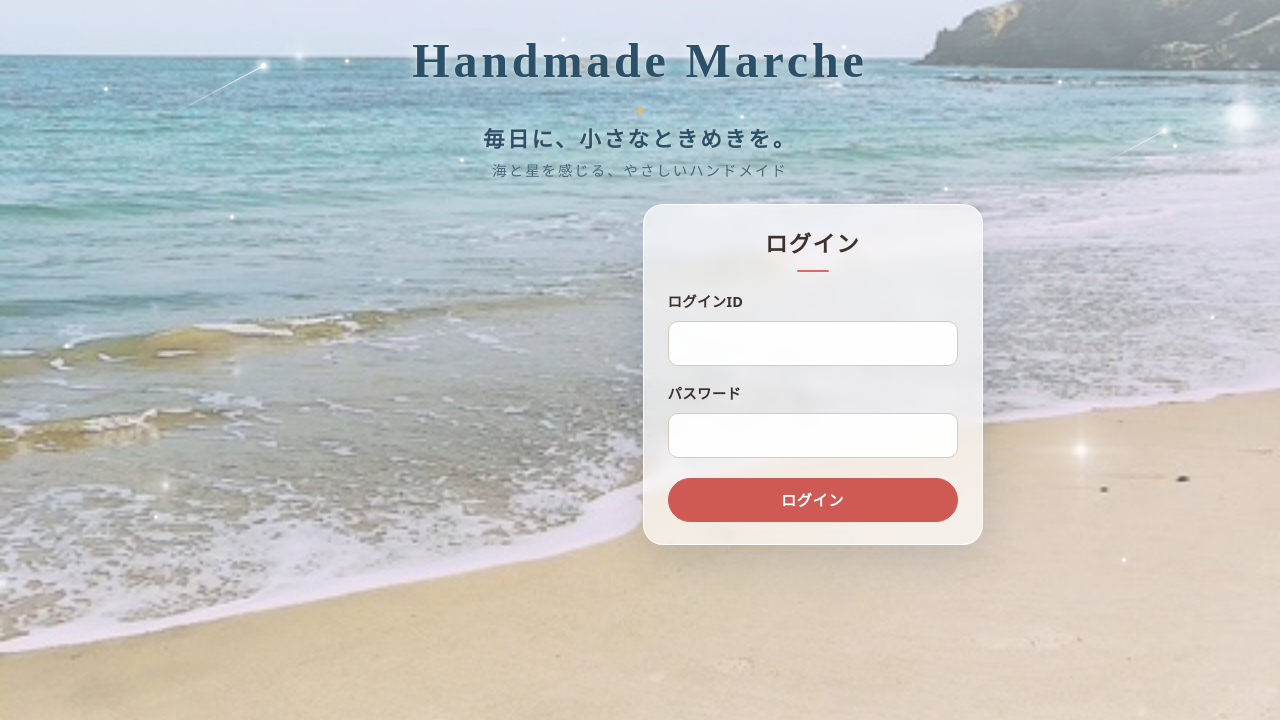
Test: ログイン画面 › ログイン前に開こうとしていた画面に、ログイン後に移動する
Expected: the heading "ログイン" is shown, [765, 232, 860, 257]
Type "user1" into the field labelled "ログインID".
click(813, 344); type("user1")  # box [668, 321, 958, 366]
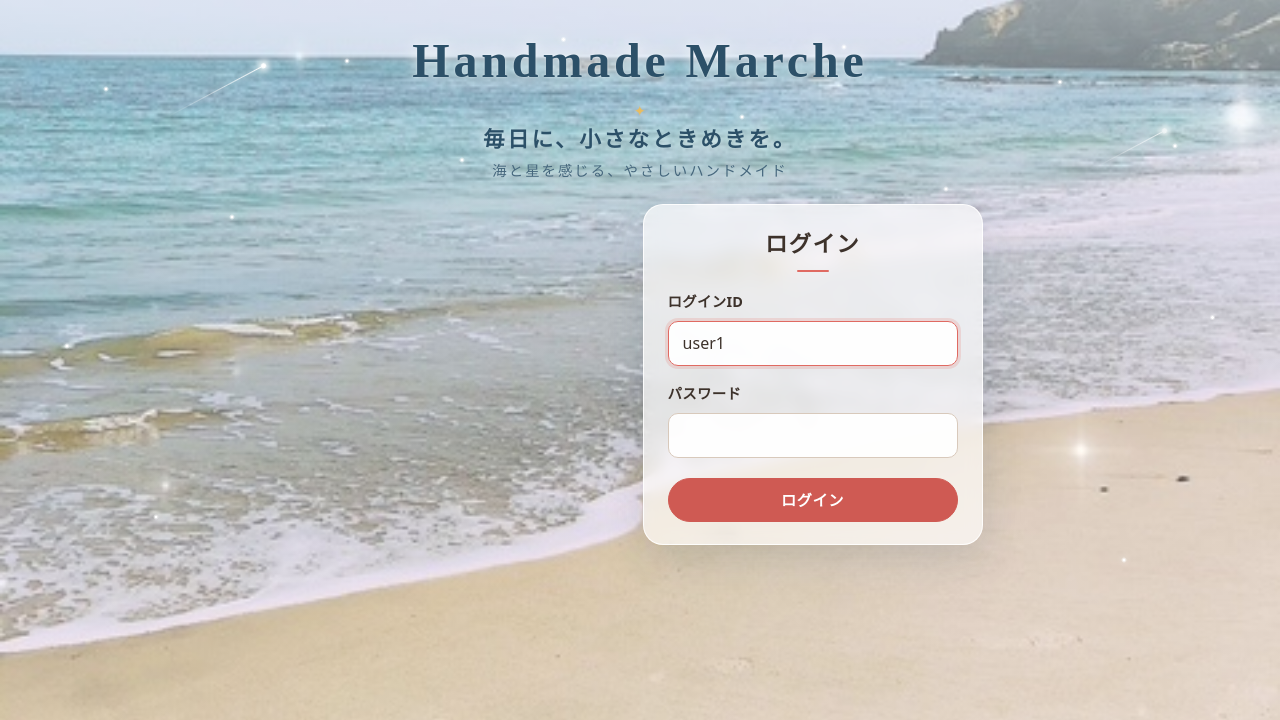
Type "password123" into the password field labelled "パスワード".
click(813, 436); type("password123")  # box [668, 413, 958, 458]
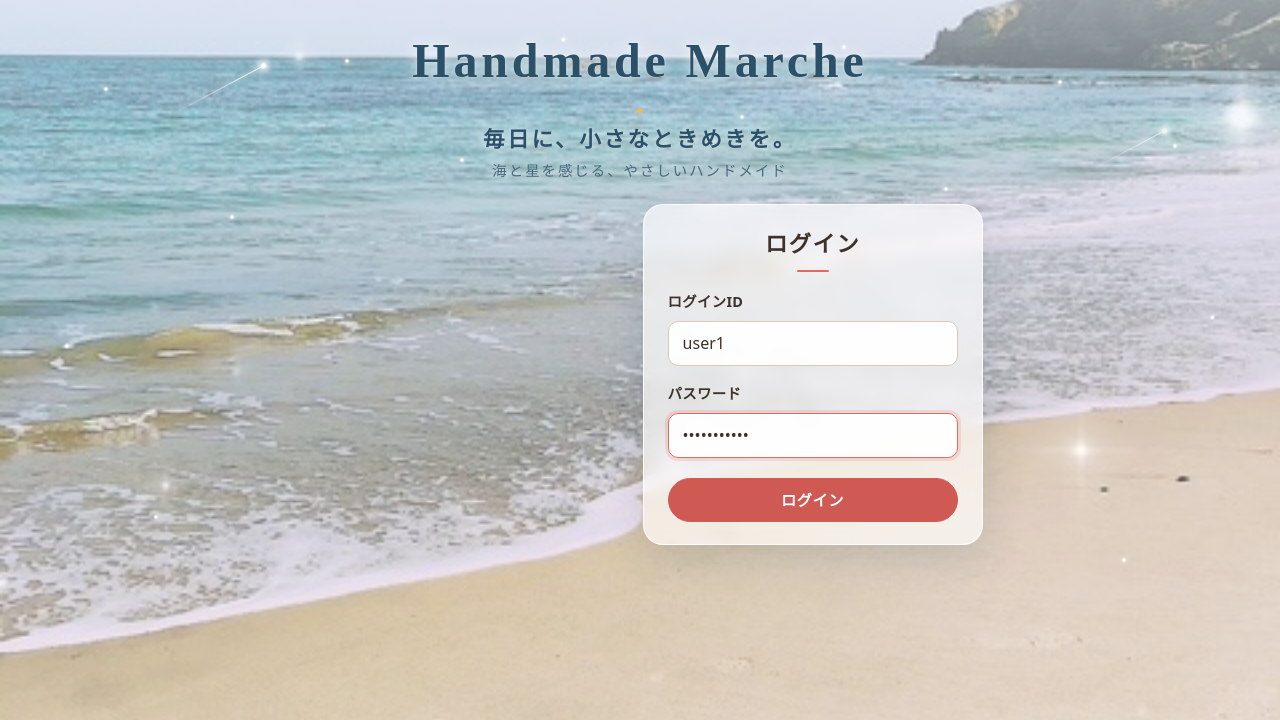
Click the button "ログイン".
click(813, 500)  # box [668, 478, 958, 522]
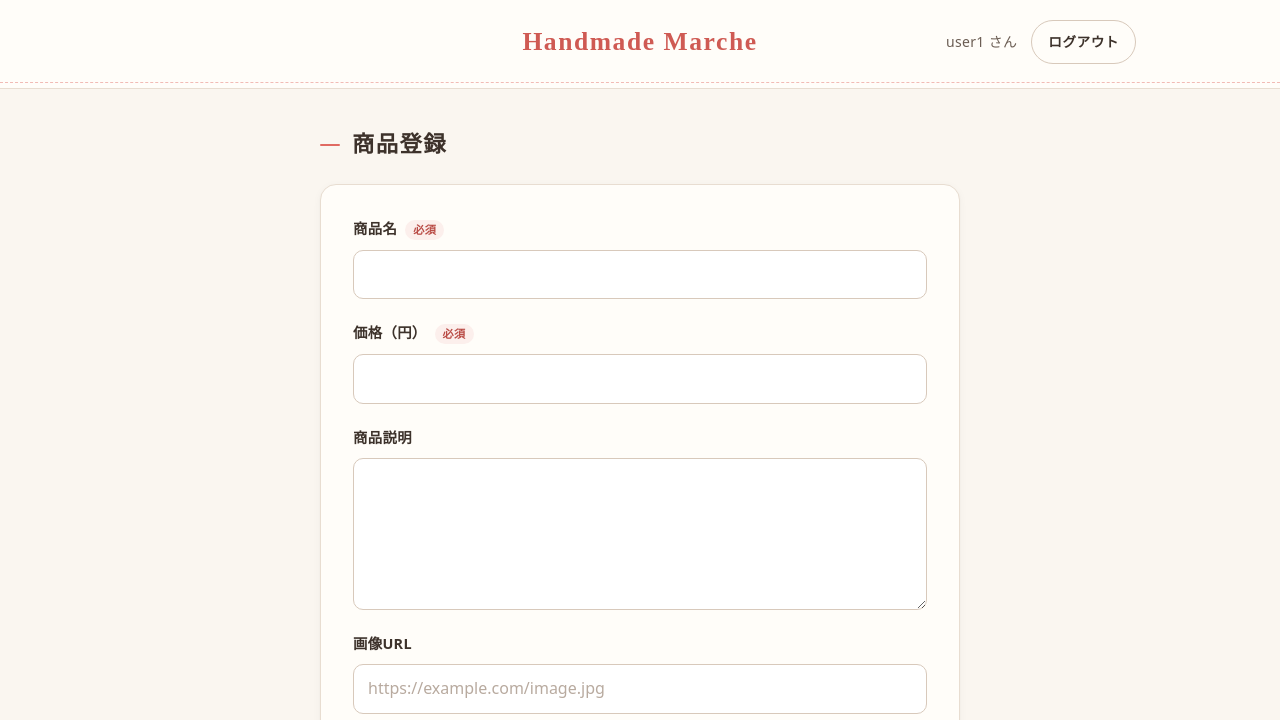
Expected: the heading "商品登録" is shown, [352, 132, 447, 157]
